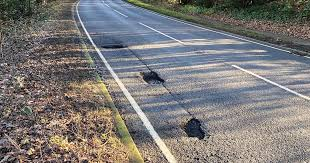pothole: (181, 117, 207, 141), (134, 67, 165, 85), (101, 42, 129, 51)
